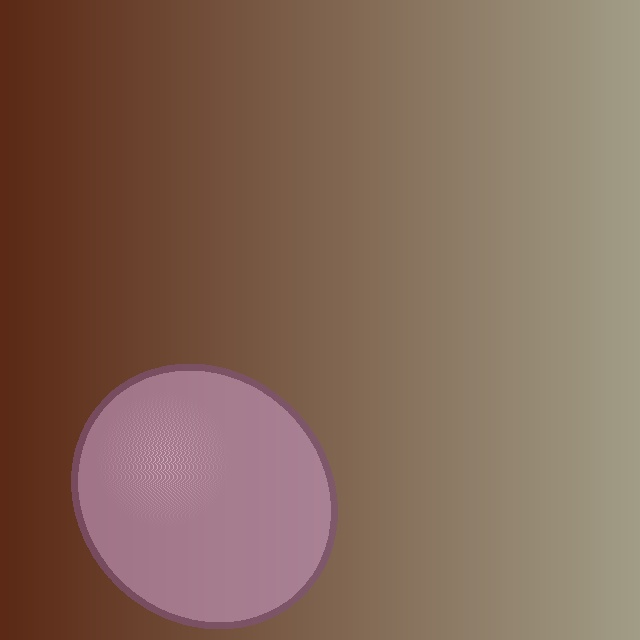lens: (74, 367, 334, 625)
